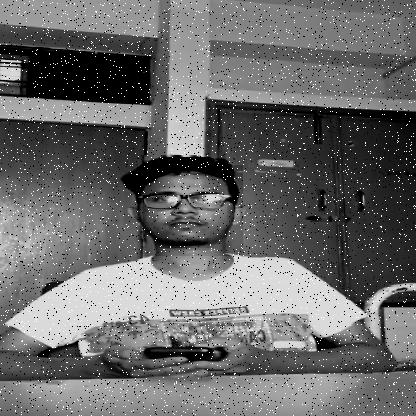Normal: (143, 165, 243, 256)
